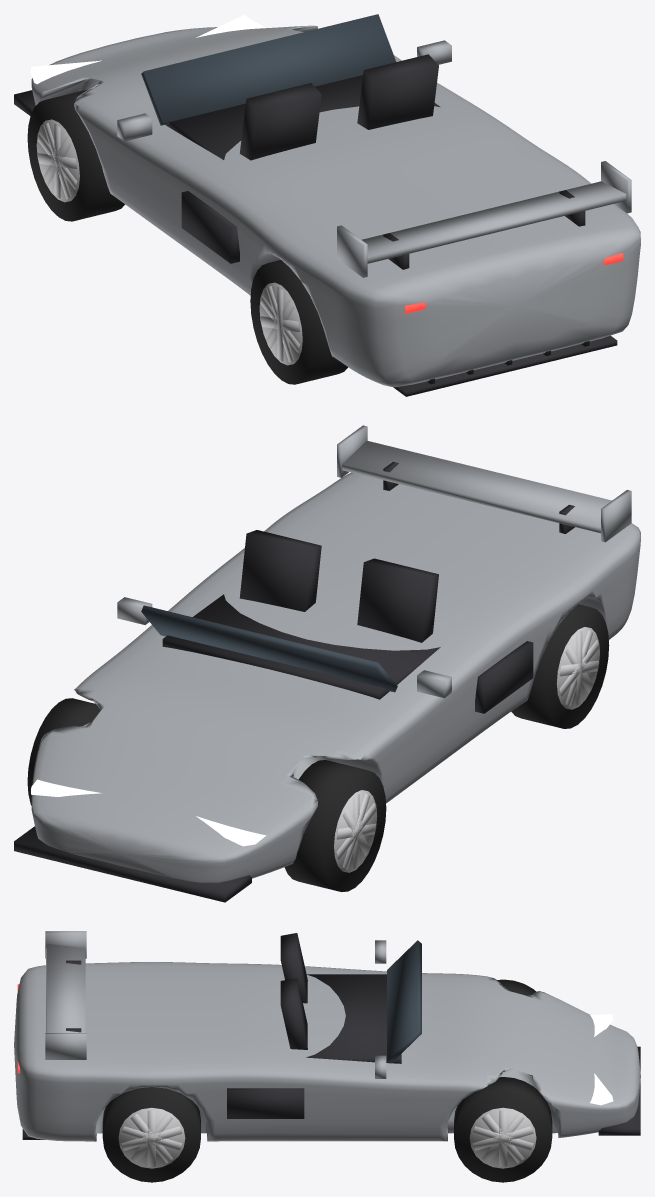
Rendered from spyder_rs.glb.
3 views of the same model, one above another, from view 1: azimuth 30°, elevation 25°; view 2: azimuth 150°, elevation 25°; view 3: azimuth 270°, elevation 25° (orthographic). The views are drawn at different scales.
Parts seen in each view (by area): view 1: Body, Wheel_FL, Wheel_RL; view 2: Body, Wheel_FL, Wheel_RL, Wheel_FR; view 3: Body, Wheel_FR, Wheel_RR.
Part boxes in pixels (left/top/right/bottom): Body: left=14, top=14, right=640, bottom=396; Wheel_FL: left=27, top=89, right=124, bottom=221; Wheel_RL: left=250, top=260, right=348, bottom=384; Body: left=14, top=425, right=640, bottom=902; Wheel_FL: left=284, top=760, right=386, bottom=891; Wheel_RL: left=511, top=604, right=609, bottom=728; Wheel_FR: left=27, top=698, right=100, bottom=805; Body: left=14, top=931, right=640, bottom=1141; Wheel_FR: left=454, top=1077, right=552, bottom=1182; Wheel_RR: left=102, top=1087, right=200, bottom=1182.
Size of the model in its own units: 2.12 by 1.24 by 4.46.
